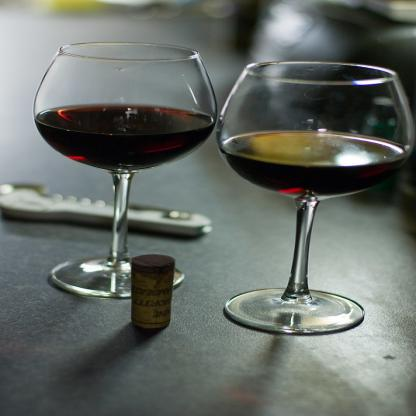drinking: (217, 61, 416, 336), (35, 42, 217, 299)
